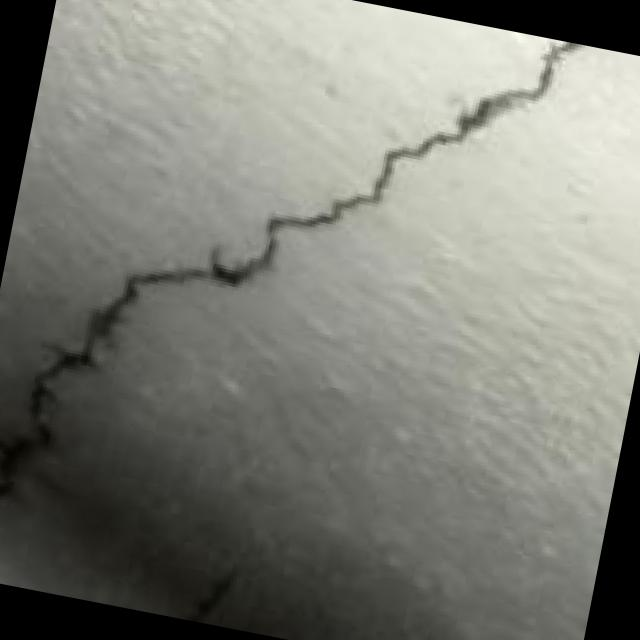crack: (0, 0, 580, 569)
